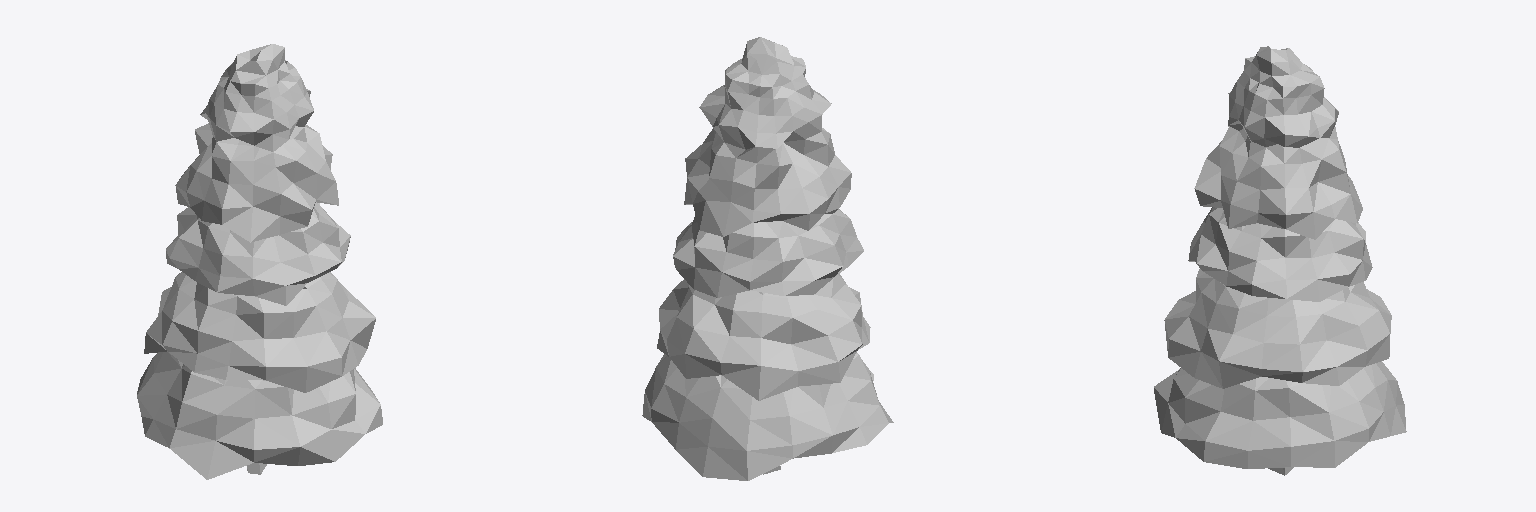
Rendered from tree1.obj.
3 renders of one model, left to right at view 1: azimuth 30°, elevation 25°; view 2: azimuth 150°, elevation 25°; view 3: azimuth 270°, elevation 25°, orthographic.
Visible parts, largest first — view 1: _1_tree; view 2: _1_tree; view 3: _1_tree.
Part boxes in pixels (left/top/right/bottom): _1_tree: left=137, top=44, right=382, bottom=479; _1_tree: left=642, top=37, right=893, bottom=480; _1_tree: left=1154, top=46, right=1406, bottom=475.
Size of the model in its own units: 0.7483 by 1.45 by 0.7799.